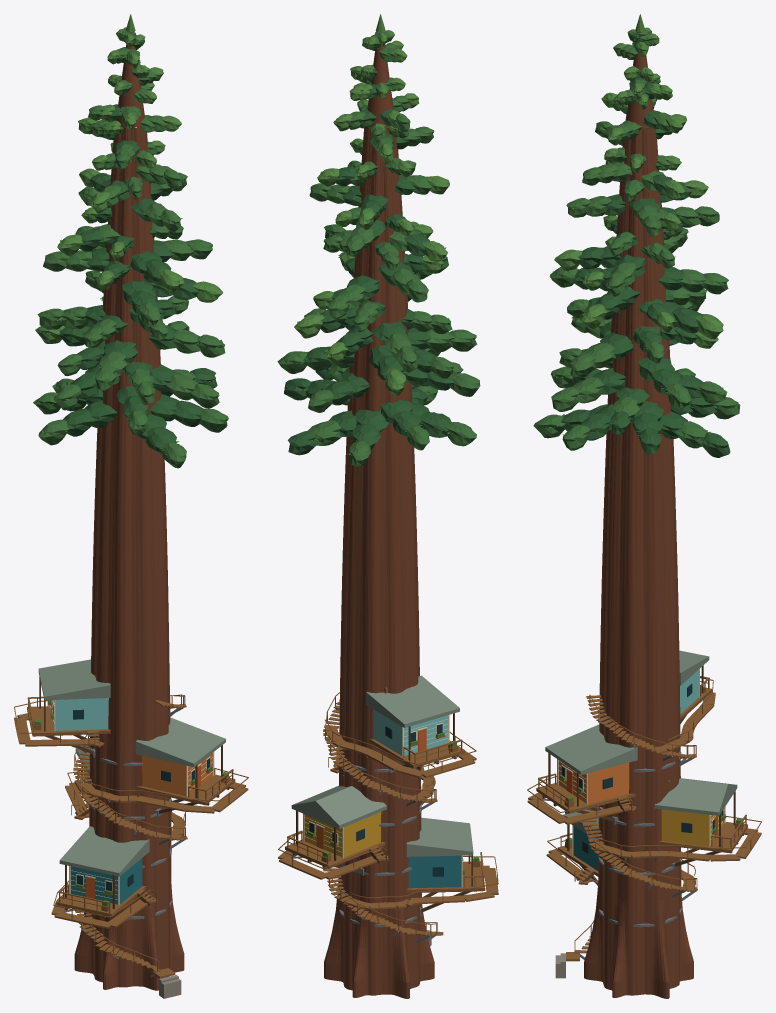
The model's file is village_tree_low.glb.
3 renders of one model, left to right at view 1: azimuth 30°, elevation 25°; view 2: azimuth 150°, elevation 25°; view 3: azimuth 270°, elevation 25°, orthographic.
Visible parts, largest first — view 1: village_tree_low; view 2: village_tree_low; view 3: village_tree_low.
Boxes of the visible parts, x1,y1,x2,y2 form: village_tree_low: (14, 14, 248, 998); village_tree_low: (277, 14, 498, 998); village_tree_low: (527, 14, 761, 998).
Size of the model in its own units: 19.94 by 94.2 by 20.8.
